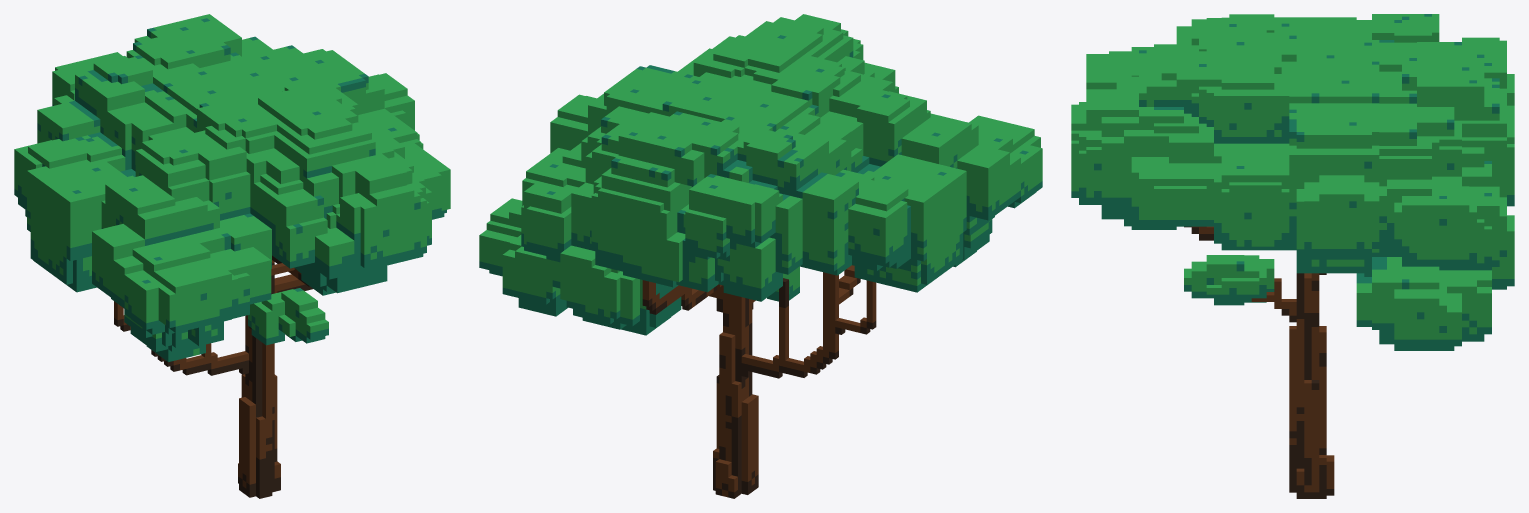
Rendered from TreeLg.fbx.
3 views of the same model, side by side, from view 1: azimuth 30°, elevation 25°; view 2: azimuth 150°, elevation 25°; view 3: azimuth 270°, elevation 25° (orthographic). The views are drawn at different scales.
Visible parts, largest first — view 1: TreeLg; view 2: TreeLg; view 3: TreeLg.
Part boxes in pixels (x1=…): TreeLg: x1=14, y1=14, x2=450, y2=498; TreeLg: x1=479, y1=14, x2=1042, y2=498; TreeLg: x1=1071, y1=14, x2=1514, y2=498.
Bounding box in the file's own units: 630 × 630 × 590.
